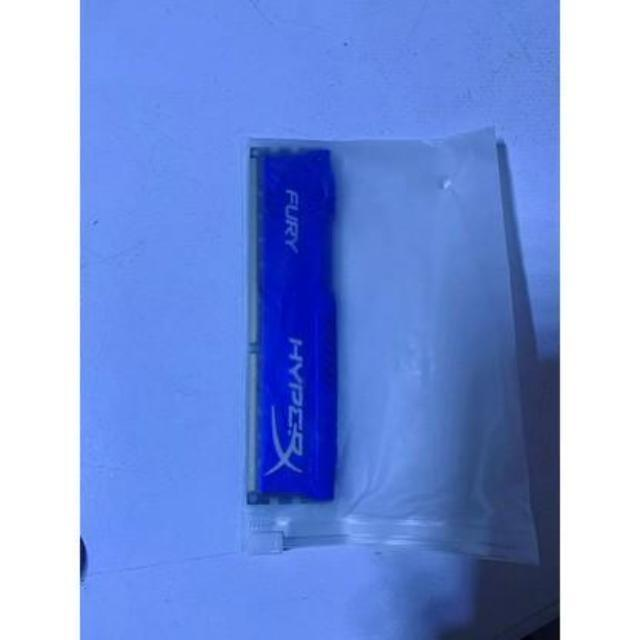RAM: (237, 142, 343, 520)
